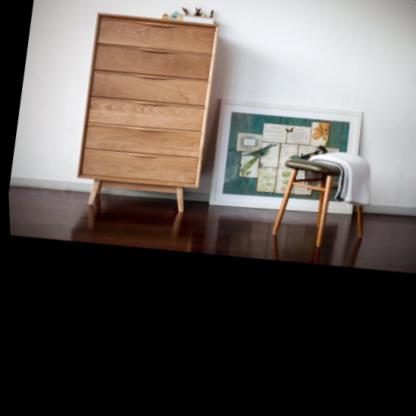Sideboard: (63, 5, 226, 226)
